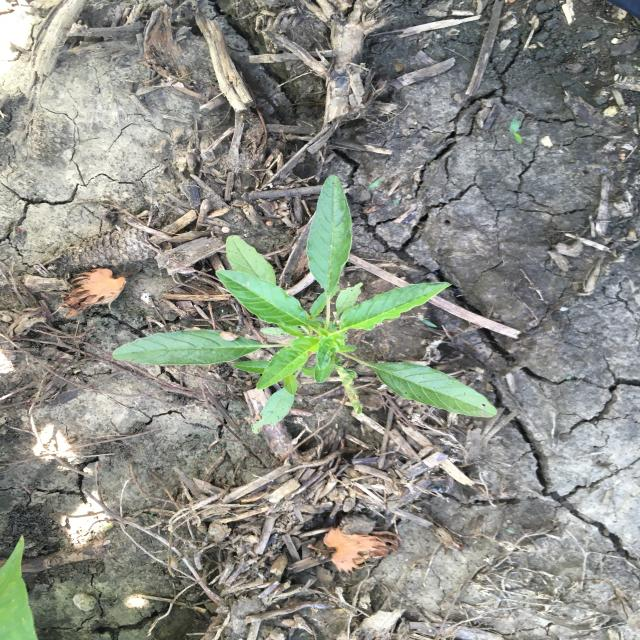Waterhemp: (111, 174, 499, 435)
